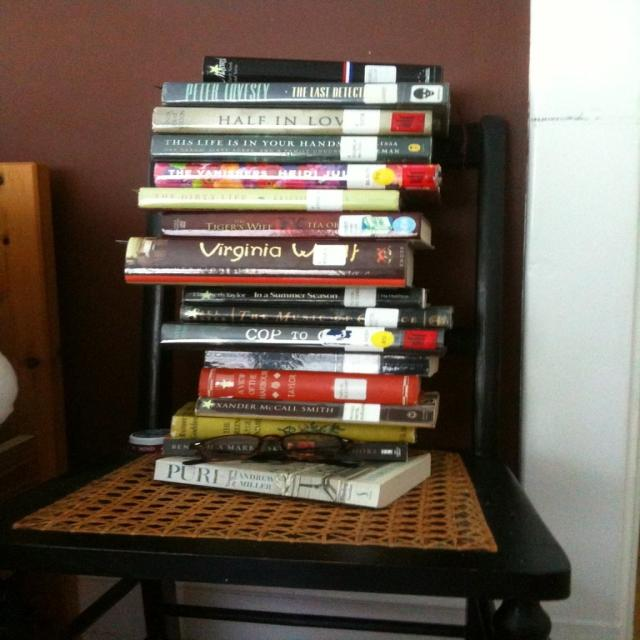book: (129, 237, 422, 280), (158, 460, 430, 506), (174, 411, 416, 443), (152, 162, 436, 189), (150, 211, 423, 239), (146, 134, 432, 160), (190, 396, 434, 425), (166, 80, 447, 105), (173, 323, 440, 349), (164, 438, 410, 464), (159, 108, 436, 131), (143, 186, 408, 210), (179, 304, 441, 328), (199, 350, 439, 371), (204, 59, 441, 80), (181, 291, 429, 309)
